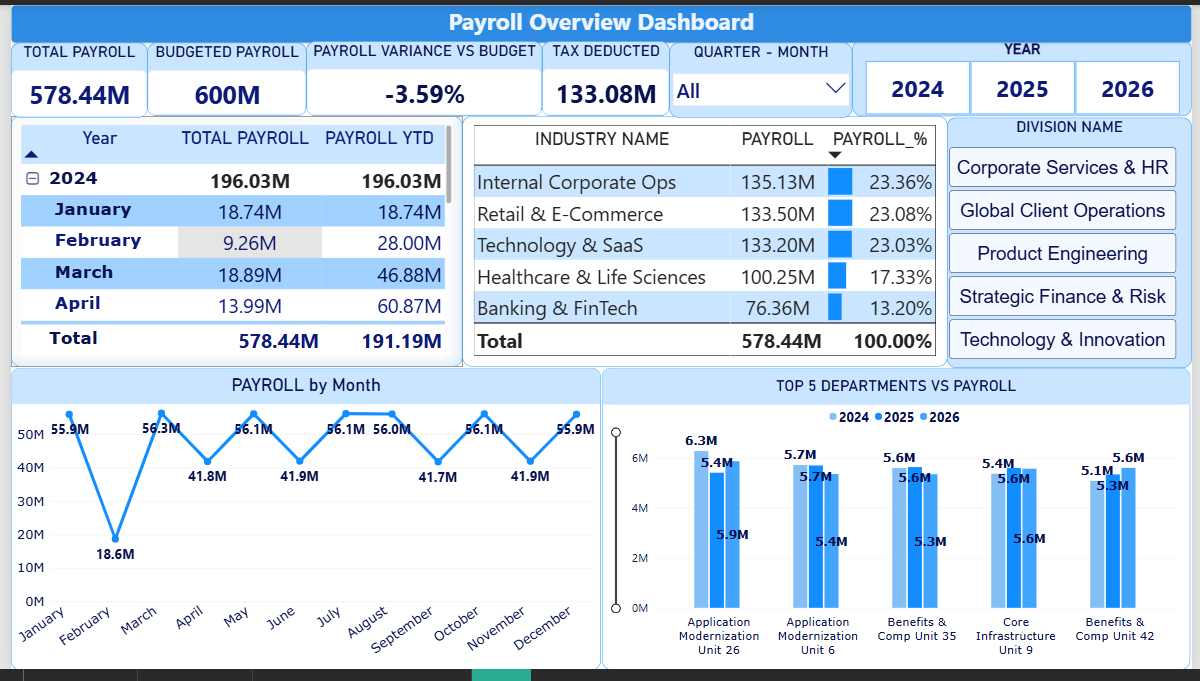

This screenshot's page, from the dashboard's own definition file:
{"tool":"powerbi","page":{"name":"Payroll Overview Dashboard","canvas":[1920,1080],"ordinal":0},"visuals":[{"type":"pivotTable","fields":{"Rows":["Dim_Calender.Year","Dim_Calender.Month"],"Values":["Fact_Payroll.TOTAL_PAYROLL","Fact_Payroll.PAYROLL_TOTALYTD"]},"box":[0,181.3,733.7,407.3],"z":0},{"type":"slicer","title":"YEAR","fields":{"Values":["Dim_Calender.Year"]},"box":[1368.7,56.1,551.4,124.4],"z":2000},{"type":"tableEx","fields":{"Values":["Dim_Industry.Industry_Name","Fact_Payroll.TOTAL_PAYROLL","Dim_Industry.INDUSTRY_PAYROLL_%"]},"box":[734.9,181.3,788.6,407.3],"z":3000},{"type":"textbox","box":[0,0,1921,62],"z":4000},{"type":"lineChart","title":"PAYROLL by Month","fields":{"Category":["Dim_Calender.Month"],"Y":["Fact_Payroll.TOTAL_PAYROLL"]},"box":[0,589.3,959.1,491.5],"z":5000},{"type":"clusteredColumnChart","title":"TOP 5 DEPARTMENTS VS PAYROLL","fields":{"Category":["Dim_Department.Department_Name"],"Series":["Dim_Calender.Year"],"Y":["Fact_Payroll.TOTAL_PAYROLL"]},"box":[961.3,590.4,956.4,490.4],"z":6000},{"type":"slicer","title":"QUARTER - MONTH","fields":{"Values":["Dim_Quarter.Quarter_Name","Dim_Date.Month_Name"]},"box":[1071.1,61,297.7,122],"z":7000},{"type":"cardVisual","title":"TAX DEDUCTED","fields":{"Data":["Fact_Payroll.TOTAL_TAX_DEDUCTED"]},"box":[863.7,58.6,207.4,122],"z":8000},{"type":"cardVisual","title":"TOTAL PAYROLL","fields":{"Data":["Fact_Payroll.TOTAL_PAYROLL"]},"box":[0,61,222,122],"z":10000},{"type":"cardVisual","title":"BUDGETED PAYROLL","fields":{"Data":["Fact_Payroll.BUDGETED_PAYROLL"]},"box":[222,61,258.6,119.6],"z":11000},{"type":"cardVisual","title":"PAYROLL VARIANCE VS BUDGET","fields":{"Data":["Fact_Payroll.PAYROLL_VARIANCE_TO_BUDGET"]},"box":[480.6,58.6,383.1,122],"z":12000},{"type":"ChicletSlicer1448559807354","title":"DIVISION NAME","fields":{"Category":["Dim_Division.Division_Name"]},"box":[1522.4,183,397.7,407],"z":13001}]}

Visuals, with their boxes in screenshot pixels (x1, y1, x2, y2), scaled from the page's 1920x1080 canvas onto the 1200x681 screenshot:
pivotTable - Dim_Calender.Year x Dim_Calender.Month: 0,114,459,371
"YEAR" slicer: 855,35,1199,114
tableEx - Dim_Industry.Industry_Name x Fact_Payroll.TOTAL_PAYROLL: 459,114,952,371
textbox: 0,0,1199,39
"PAYROLL by Month" lineChart: 0,372,599,680
"TOP 5 DEPARTMENTS VS PAYROLL" clusteredColumnChart: 601,372,1199,680
"QUARTER - MONTH" slicer: 669,38,856,115
"TAX DEDUCTED" cardVisual: 540,37,669,114
"TOTAL PAYROLL" cardVisual: 0,38,139,115
"BUDGETED PAYROLL" cardVisual: 139,38,300,114
"PAYROLL VARIANCE VS BUDGET" cardVisual: 300,37,540,114
"DIVISION NAME" ChicletSlicer1448559807354: 952,115,1199,372
